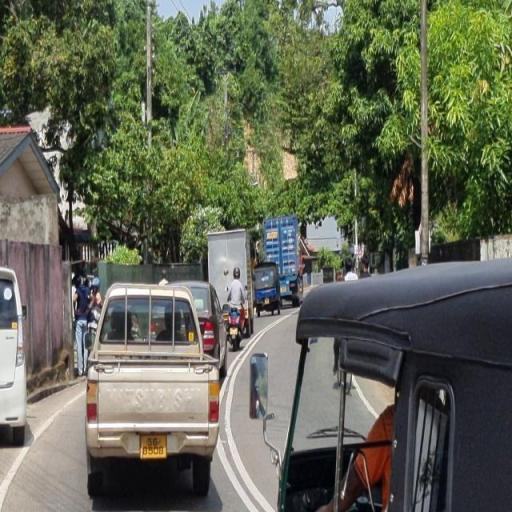double_white_line: (219, 430, 274, 510)
